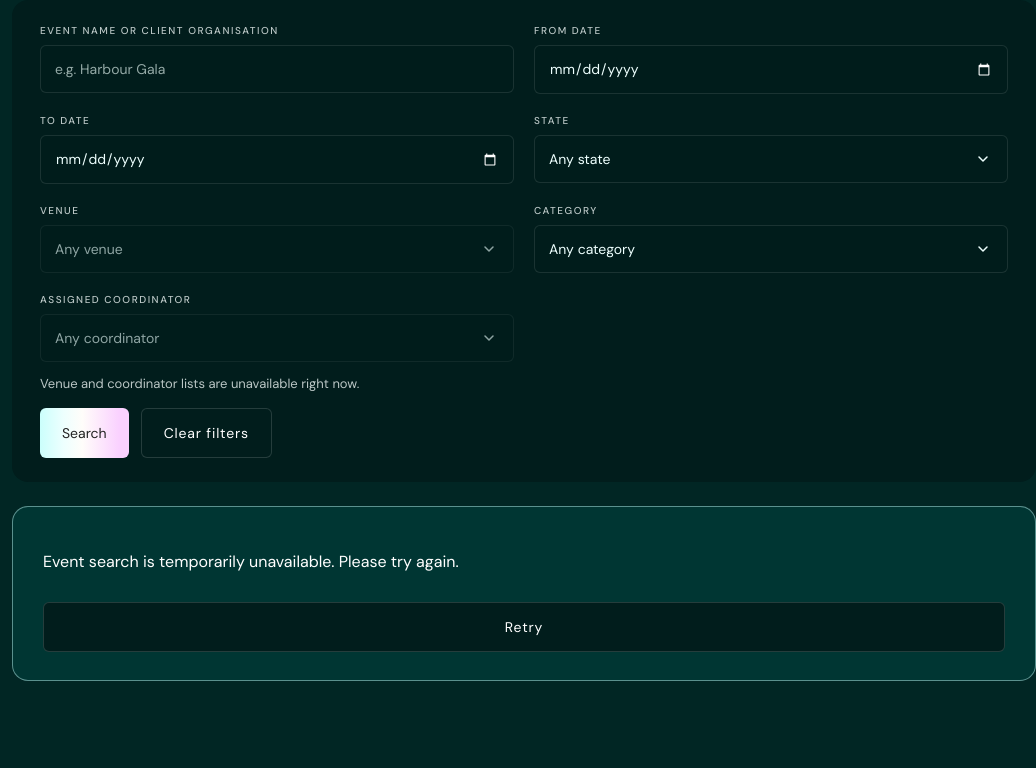
Test: EventSearch (SG2-70) › [FAILURE] [SG2-70:AC1] an unavailable search can be retried with the same filters, and missing options are explained
Expected: the message "Event search is temporarily unavailable. Please try again." is shown, [43,551,459,572]
Expected: the text "Venue and coordinator lists are unavailable right now." is shown, [40,375,359,392]
Click the button "Retry" at (524, 627), box [43,602,1005,652]
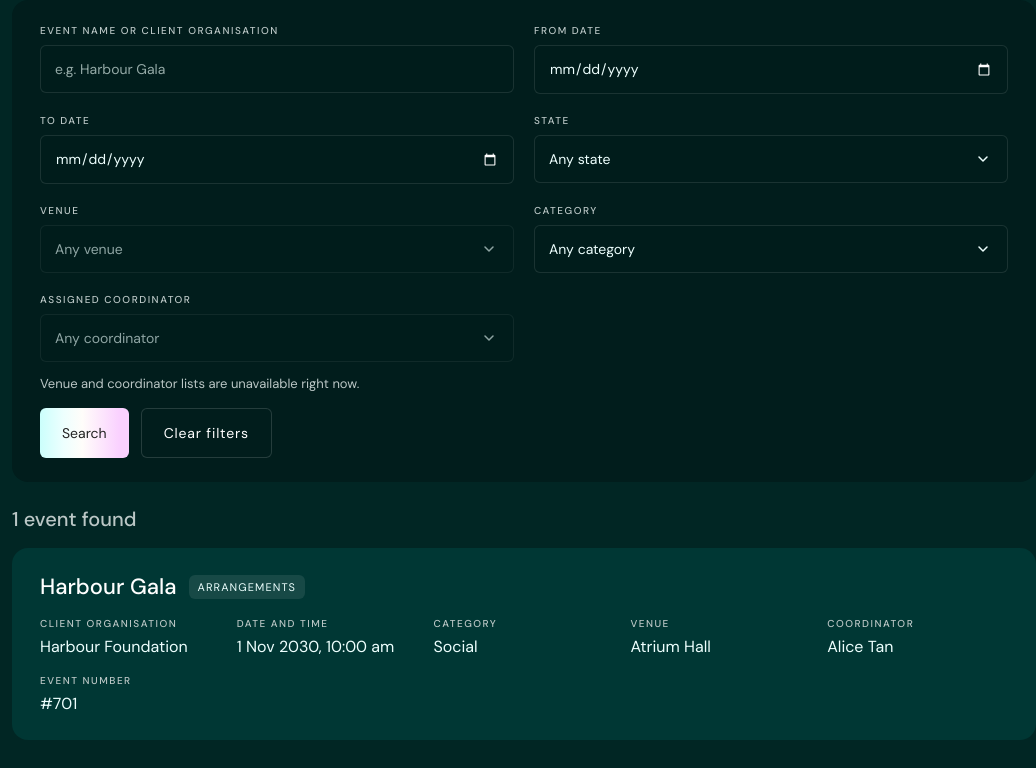
Now the heading "1 event found" is shown, box [12,506,136,532]
